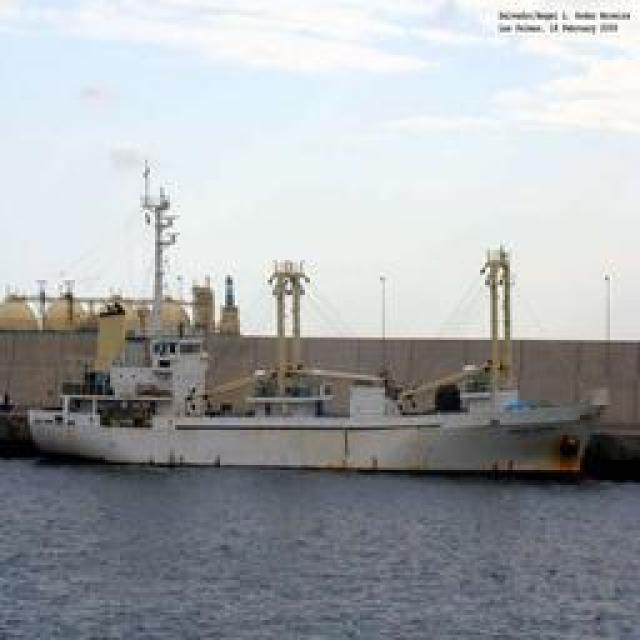ship2: (23, 174, 601, 475)
